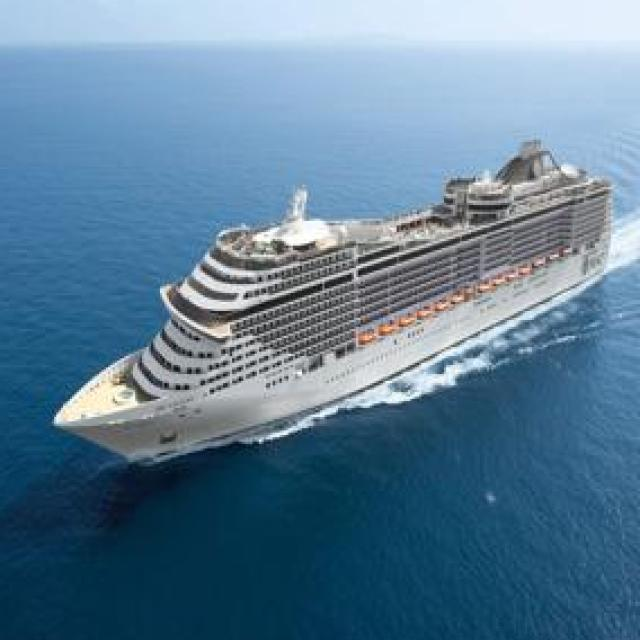passenger ship: (54, 133, 616, 462)
